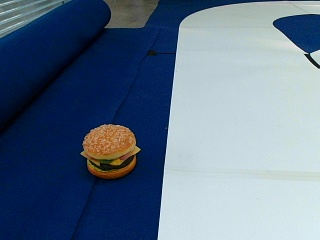burger: (81, 122, 139, 177)
